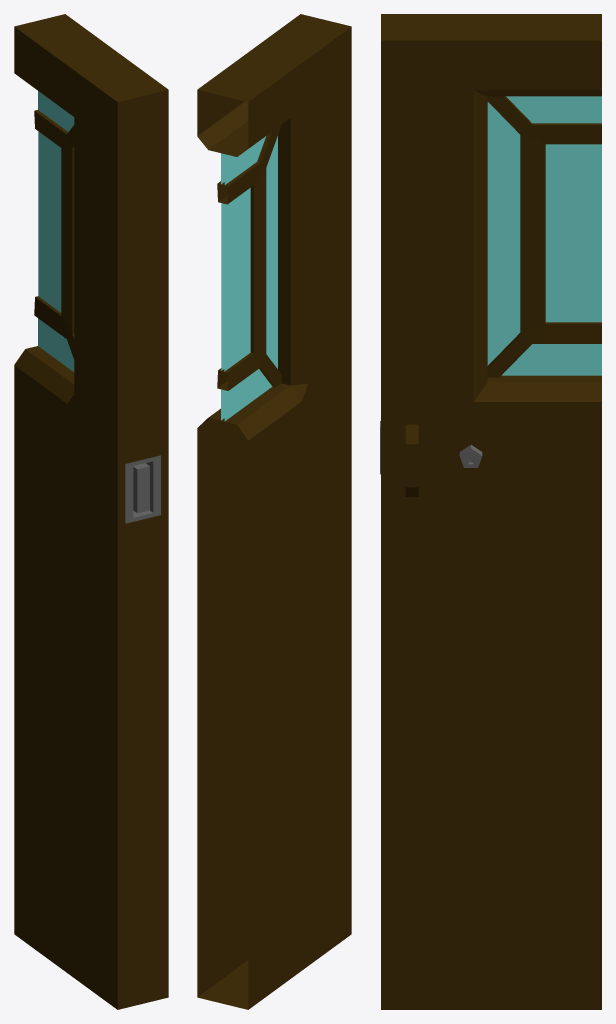
The model's file is OpenDoor.fbx.
3 renders of one model, left to right at view 1: azimuth 30°, elevation 25°; view 2: azimuth 150°, elevation 25°; view 3: azimuth 270°, elevation 25°, orthographic. The views are drawn at different scales.
Parts seen in each view (by area): view 1: OpenDoor; view 2: OpenDoor; view 3: OpenDoor.
Boxes of the visible parts, x1,y1,x2,y2 form: OpenDoor: (14, 14, 168, 1009); OpenDoor: (197, 14, 351, 1009); OpenDoor: (380, 14, 601, 1009).
Bounding box in the file's own units: 19.73 × 281 × 58.38.
